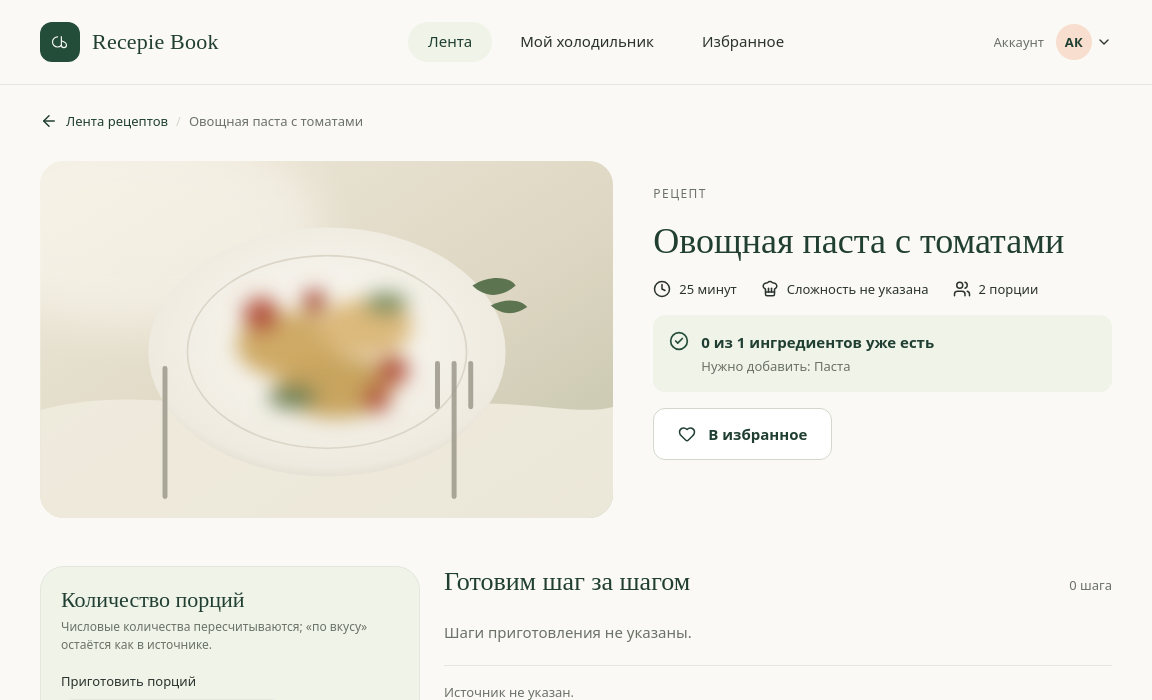
Test case: app routing › navigates from the recipe page to the fridge by the logo
expect the heading "Овощная паста с томатами" is shown: met, box 653,220 -> 1064,263
Click the link "Recepie Book" at (129, 42), box 40,22 -> 219,62
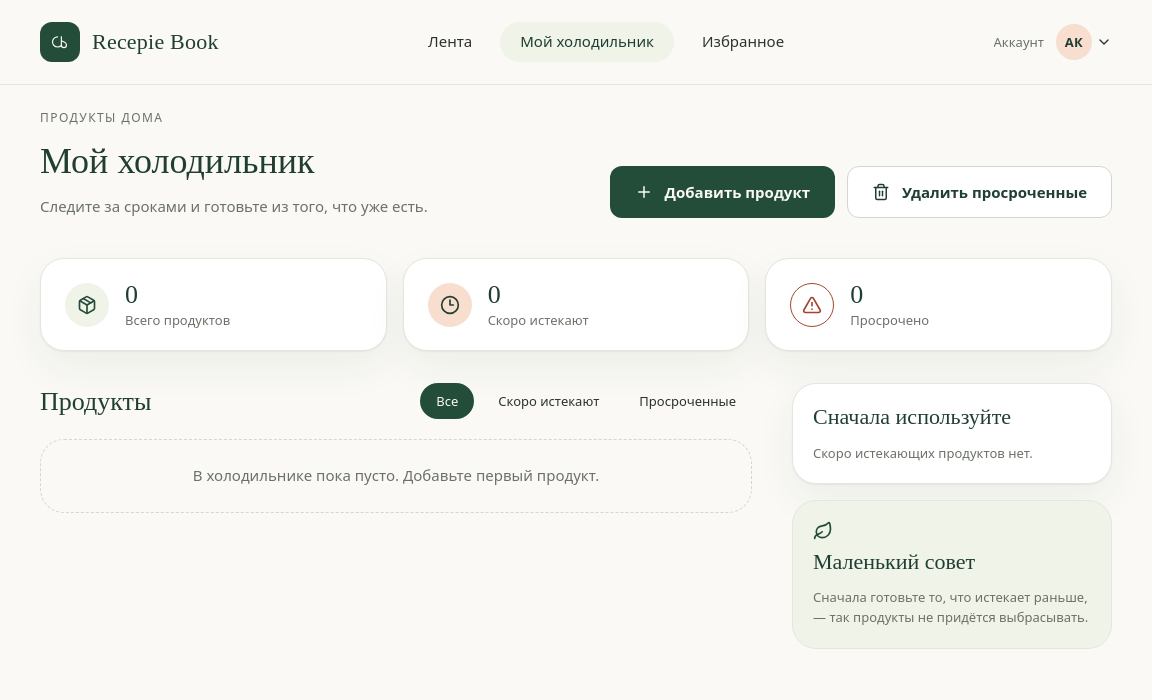
expect the heading "Мой холодильник" is shown: met, box 40,141 -> 314,181
expect the text "Овощная паста с томатами" is gone: met
